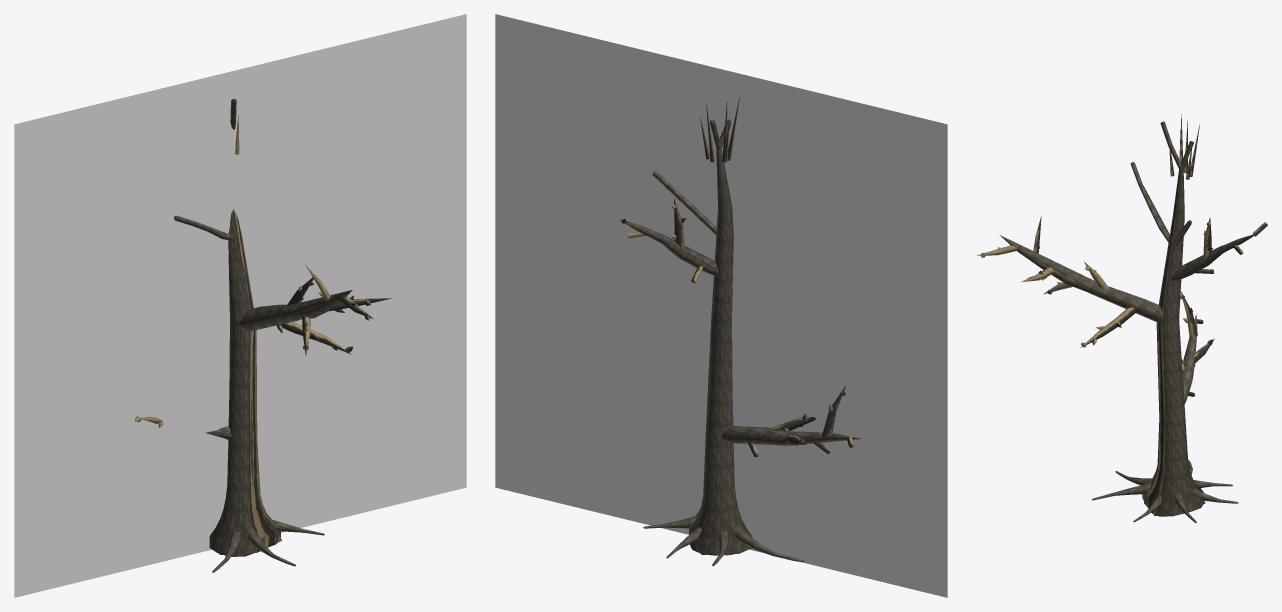
File: foudroye_adulte_d.fbx
3 views of the same model, side by side, from view 1: azimuth 30°, elevation 25°; view 2: azimuth 150°, elevation 25°; view 3: azimuth 270°, elevation 25° (orthographic). The views are drawn at different scales.
Parts seen in each view (by area): view 1: foudroye_adulte_d_LOD3, foudroye_adulte_d_LOD1, foudroye_adulte_d_LOD2; view 2: foudroye_adulte_d_LOD3, foudroye_adulte_d_LOD1, foudroye_adulte_d_LOD2; view 3: foudroye_adulte_d_LOD1, foudroye_adulte_d_LOD2.
Part boxes in pixels (box(x1,y1,x2,y2)): foudroye_adulte_d_LOD3: box(14, 14, 466, 597); foudroye_adulte_d_LOD1: box(135, 99, 391, 572); foudroye_adulte_d_LOD2: box(136, 99, 389, 571); foudroye_adulte_d_LOD3: box(495, 14, 947, 597); foudroye_adulte_d_LOD1: box(619, 98, 860, 565); foudroye_adulte_d_LOD2: box(621, 99, 859, 565); foudroye_adulte_d_LOD1: box(976, 113, 1267, 522); foudroye_adulte_d_LOD2: box(980, 119, 1267, 522).
Size of what is drawn, in the model's own units: 13.99 by 13.99 by 9.29.
